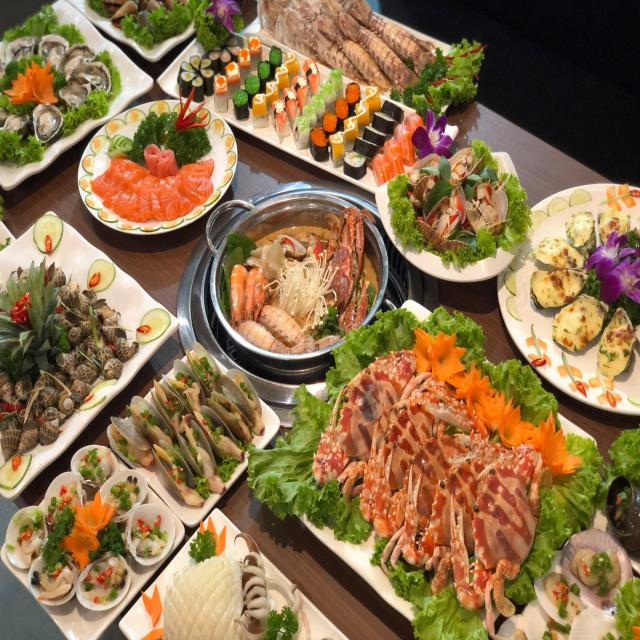ca tim nuong: (528, 174, 640, 400)
cua hap: (298, 304, 558, 614)
hau song: (0, 0, 123, 150)
lau hai san: (209, 192, 389, 368)
ngheu hap: (8, 445, 175, 614)
oc huong hap: (0, 200, 141, 457)
sashimi: (84, 113, 225, 225)
so hap: (113, 341, 269, 508)
sushi: (176, 38, 456, 179)
tom tit hap: (249, 2, 479, 98)
